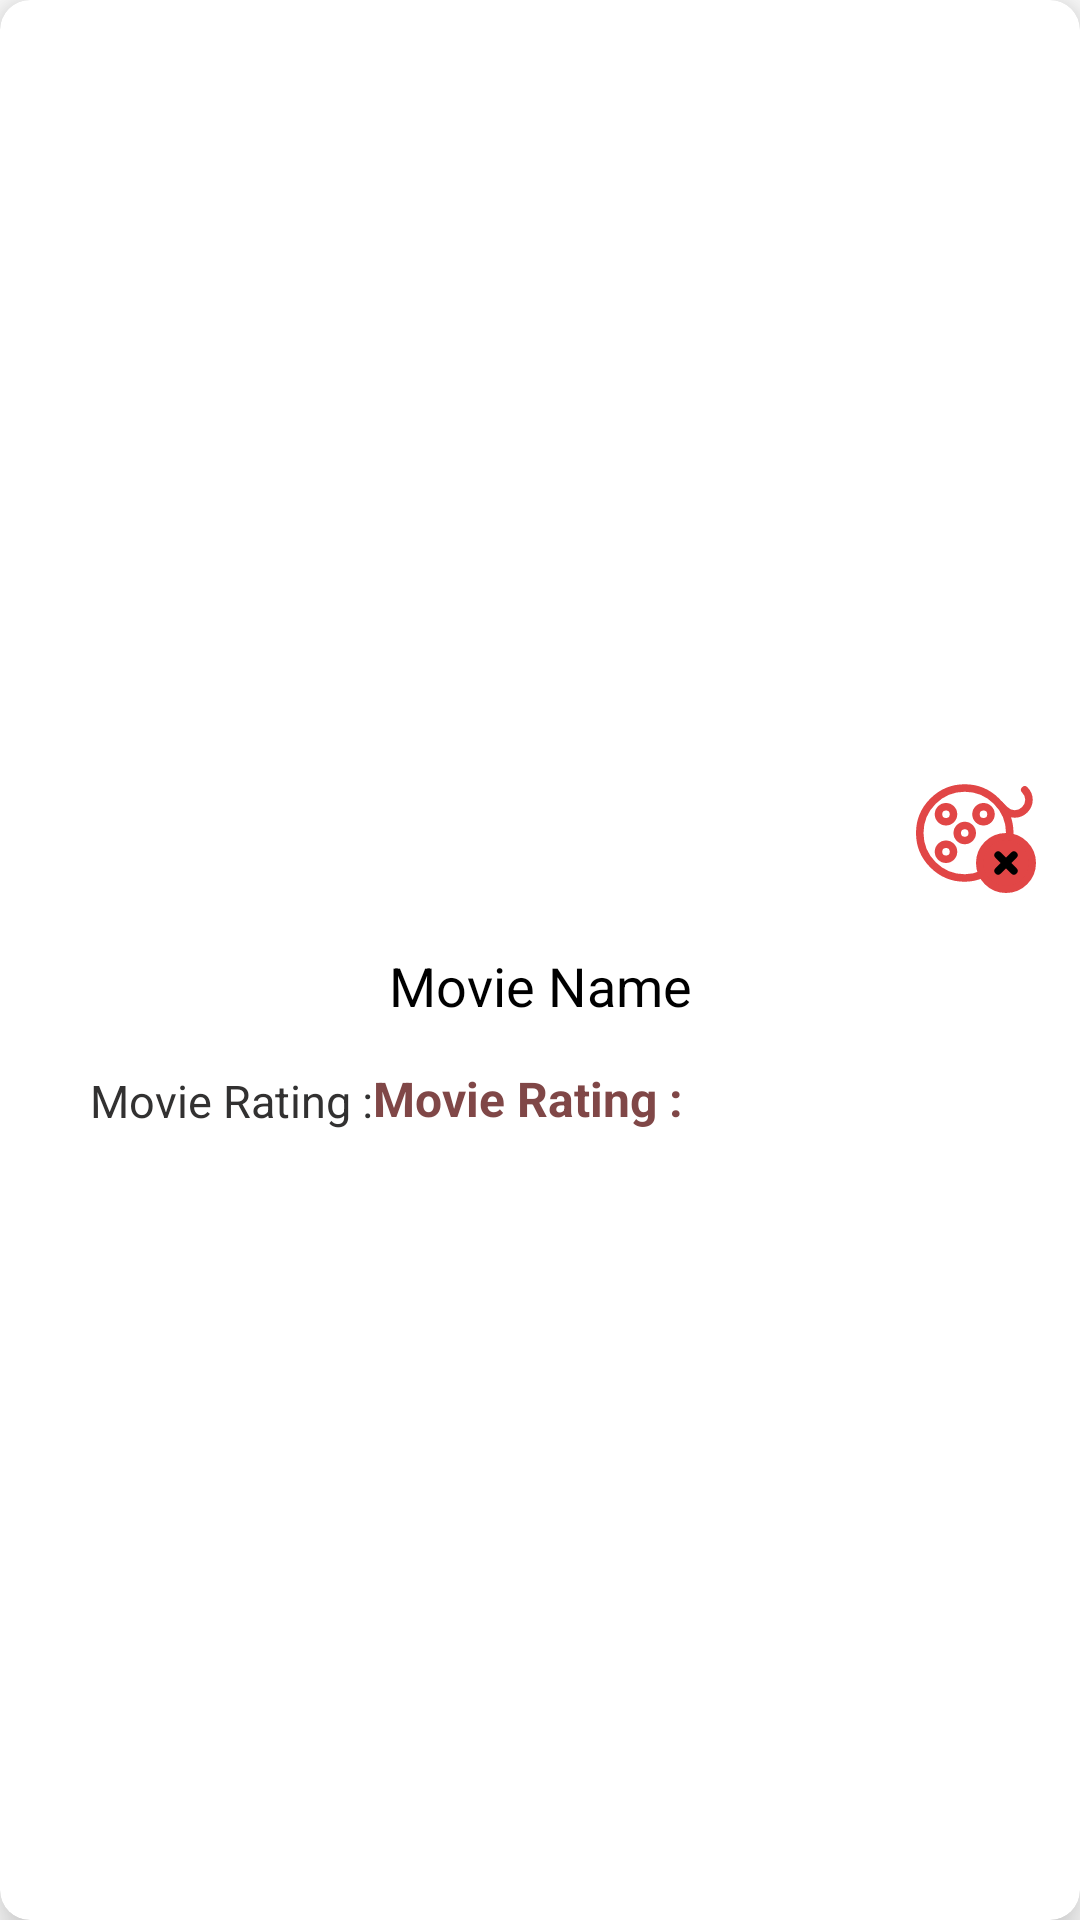

Icons on this 1080*1920 Android screen, each with the point to tap as (x=x, y=y):
remove from fav: (x=976, y=838)
